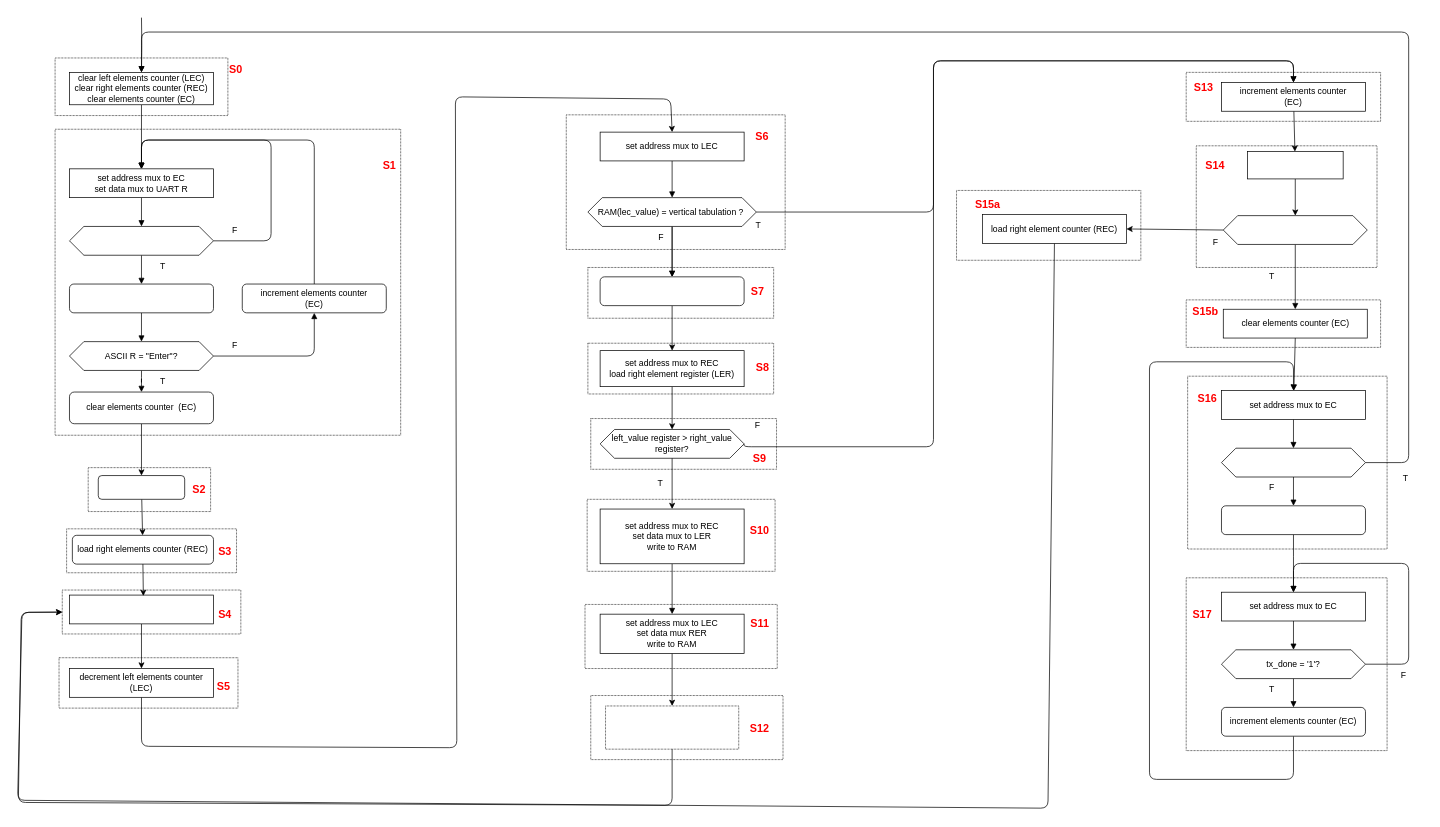
The diagram is 1440 pixels wide and 827 high, and some of its shapes have lost their labels. Here are the shapes that lost their labels. From the top down, the centre of each, then its label:
pixel 1295 165: Set adress mux to EC
pixel 141 240: rx_done = '1'?
pixel 1295 229: data_out = "Enter" ?
pixel 141 298: wr <= '1'
pixel 671 291: set address mux to LEC load left element register (LER)
pixel 1293 462: data_out = "Enter"?
pixel 141 487: increment EC
pixel 1293 520: set tx_start
pixel 141 609: load left elements counter (LEC)
pixel 672 727: decrement right elements counter (REC)
